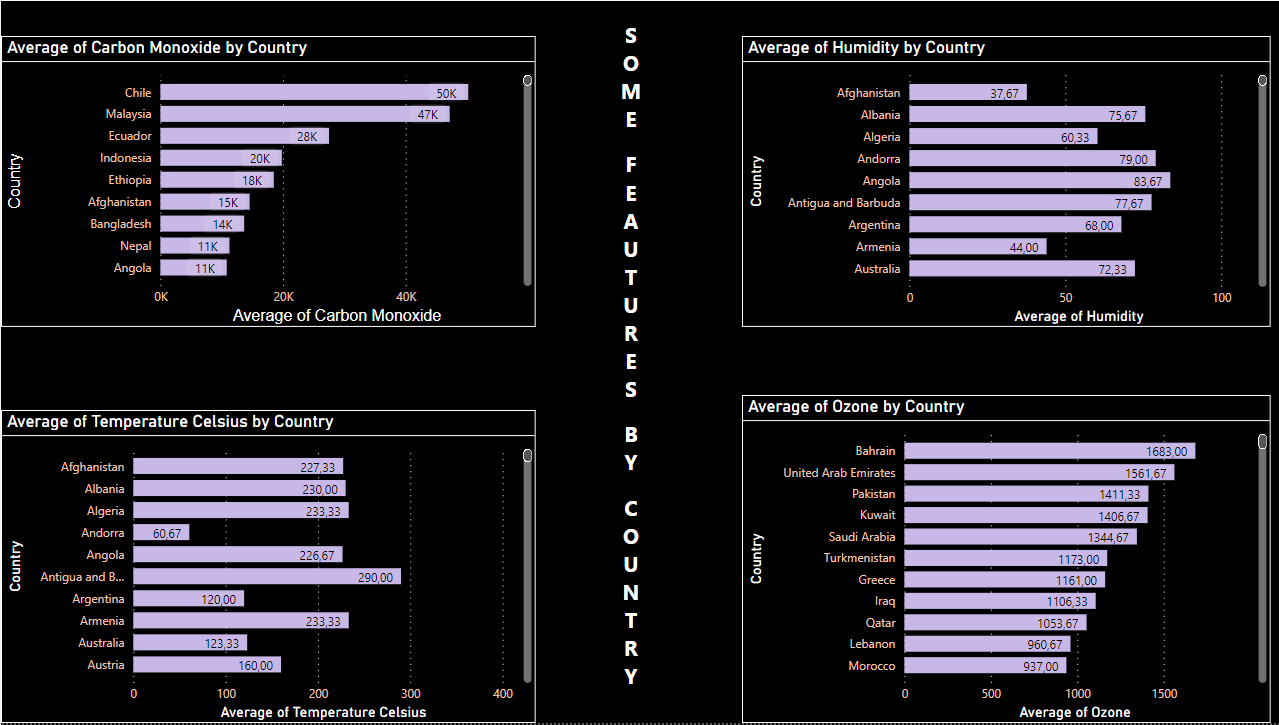

The dashboard page shown, as its layout file describes it:
{"tool":"powerbi","page":{"name":"Page 1","canvas":[1280,720],"ordinal":0},"visuals":[{"type":"clusteredBarChart","title":"Average of Carbon Monoxide by Country","fields":{"Category":["GlobalWeatherRepository.country"],"Y":["Avg(GlobalWeatherRepository.air_quality_Carbon_Monoxide)"]},"box":[0,34.9,533.3,290.1],"z":0},{"type":"clusteredBarChart","fields":{"Category":["GlobalWeatherRepository.Country"],"Y":["Avg(GlobalWeatherRepository.temperature_celsius)"]},"box":[0,407.7,533.3,312],"z":1000},{"type":"clusteredBarChart","fields":{"Category":["GlobalWeatherRepository.Country"],"Y":["Avg(GlobalWeatherRepository.Humidity)"]},"box":[738.7,34.9,527.4,290.1],"z":2000},{"type":"clusteredBarChart","fields":{"Category":["GlobalWeatherRepository.Country"],"Y":["Avg(GlobalWeatherRepository.Ozone)"]},"box":[738.7,392.8,527.4,327],"z":3000},{"type":"textbox","box":[579.2,14,97.7,684.9],"z":4000}]}

Visuals, with their boxes in screenshot pixels (x1, y1, x2, y2), scaled from the page's 1280x720 canvas onto the 1279x725 screenshot:
"Average of Carbon Monoxide by Country" clusteredBarChart: (x1=0, y1=35, x2=533, y2=327)
clusteredBarChart - GlobalWeatherRepository.Country x Avg(GlobalWeatherRepository.temperature_celsius): (x1=0, y1=411, x2=533, y2=724)
clusteredBarChart - GlobalWeatherRepository.Country x Avg(GlobalWeatherRepository.Humidity): (x1=738, y1=35, x2=1265, y2=327)
clusteredBarChart - GlobalWeatherRepository.Country x Avg(GlobalWeatherRepository.Ozone): (x1=738, y1=396, x2=1265, y2=724)
textbox: (x1=579, y1=14, x2=676, y2=704)
